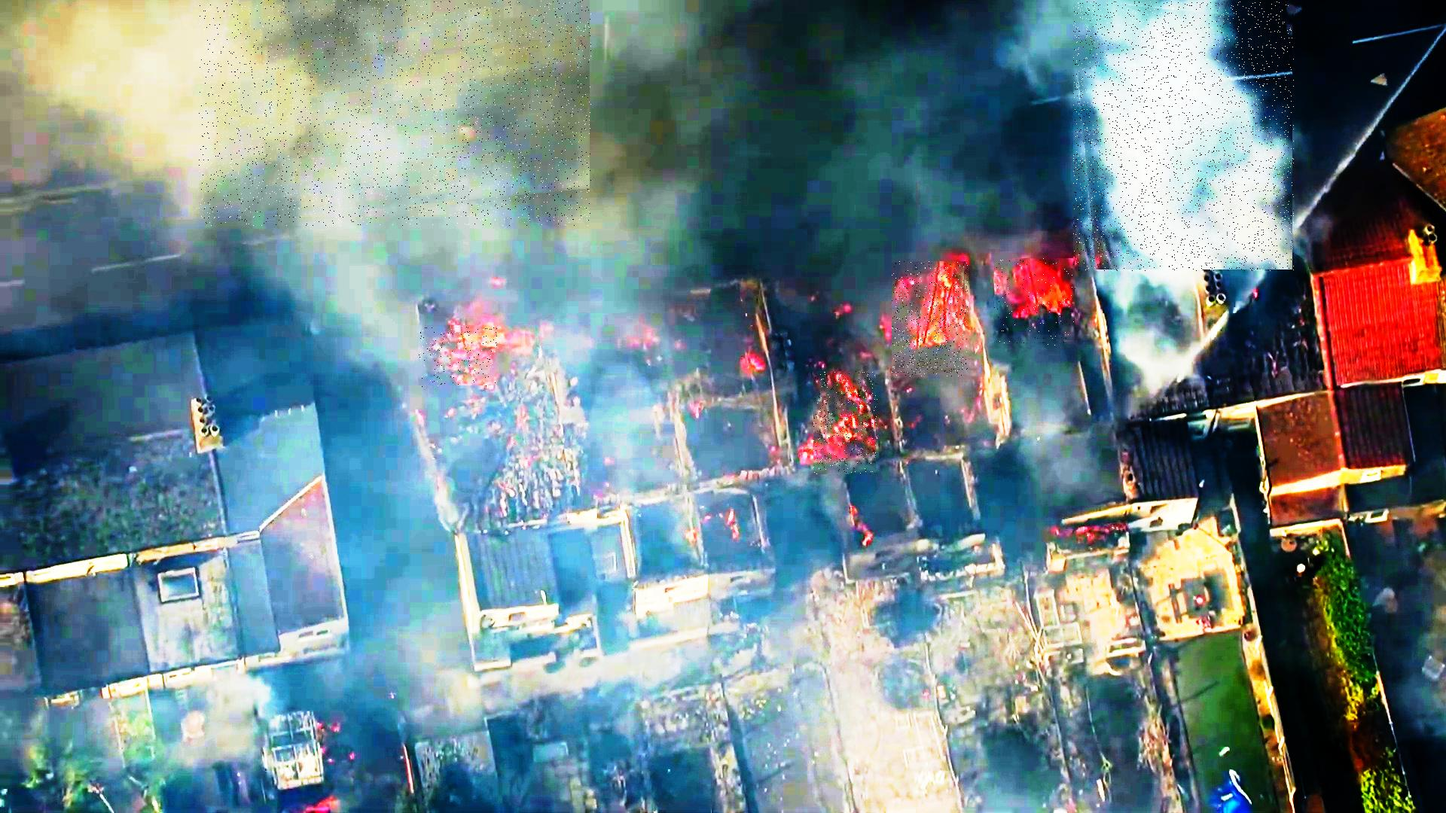fire: (892, 262, 968, 377), (995, 259, 1077, 347), (814, 371, 878, 474), (418, 326, 497, 387)
smoke: (200, 0, 592, 226), (1074, 2, 1294, 272)
